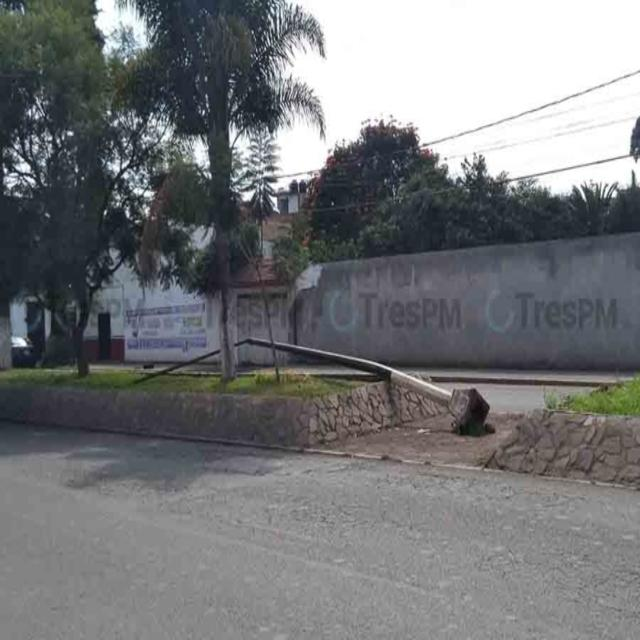Inclined Pole: (122, 337, 492, 438)
